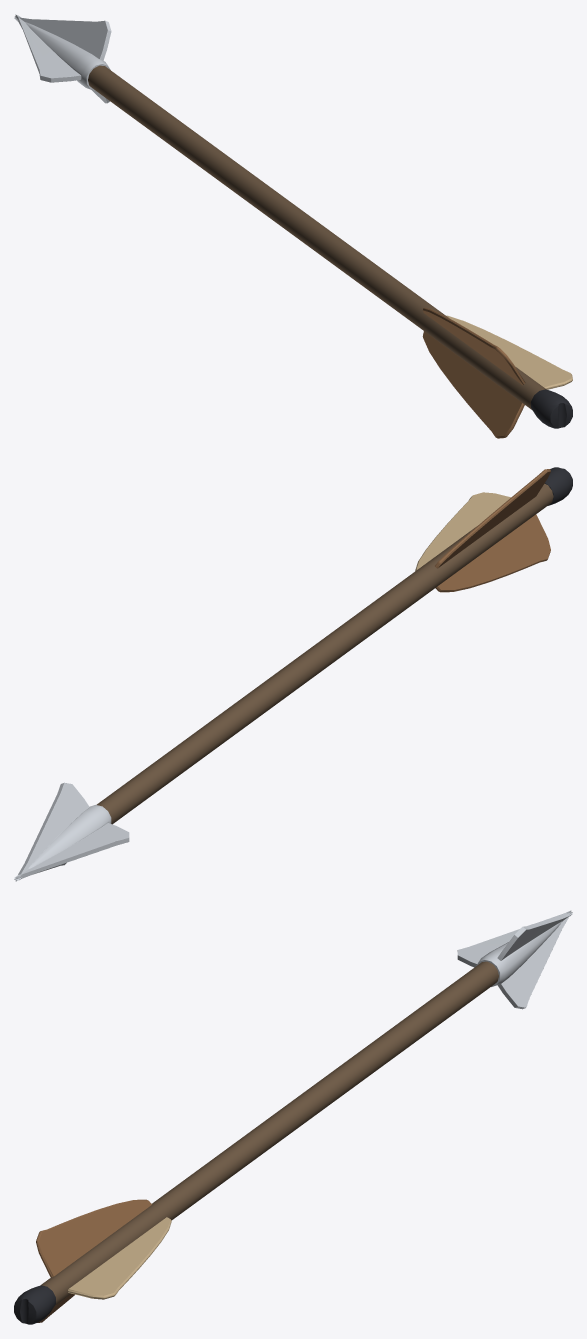
File: w_pj_arrow.glb
3 renders of one model, top to bottom at view 1: azimuth 30°, elevation 25°; view 2: azimuth 150°, elevation 25°; view 3: azimuth 330°, elevation 25°, orthographic.
Parts seen in each view (by area): view 1: shaft_wzA, vane_wzN.001, tip_wzN, vane_wzN, nock_wzN; view 2: shaft_wzA, vane_wzN.001, tip_wzN, vane_wzN, nock_wzN; view 3: shaft_wzA, tip_wzN, vane_wzN.001, vane_wzN, nock_wzN.
Part boxes in pixels (bbox=[...]): shaft_wzA: bbox=[88, 65, 546, 409]; vane_wzN.001: bbox=[422, 307, 525, 438]; tip_wzN: bbox=[14, 14, 111, 103]; vane_wzN: bbox=[446, 315, 572, 389]; nock_wzN: bbox=[531, 389, 572, 428]; shaft_wzA: bbox=[96, 483, 553, 824]; vane_wzN.001: bbox=[435, 469, 550, 592]; tip_wzN: bbox=[14, 782, 129, 881]; vane_wzN: bbox=[415, 492, 510, 570]; nock_wzN: bbox=[544, 467, 572, 505]; shaft_wzA: bbox=[40, 961, 498, 1305]; tip_wzN: bbox=[457, 910, 572, 1009]; vane_wzN.001: bbox=[36, 1199, 151, 1322]; vane_wzN: bbox=[68, 1217, 171, 1299]; nock_wzN: bbox=[14, 1285, 55, 1324].
Bounding box in the file's own units: 0.0796 × 0.0735 × 0.7993.
